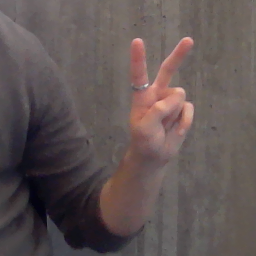V: (123, 34, 202, 156)
